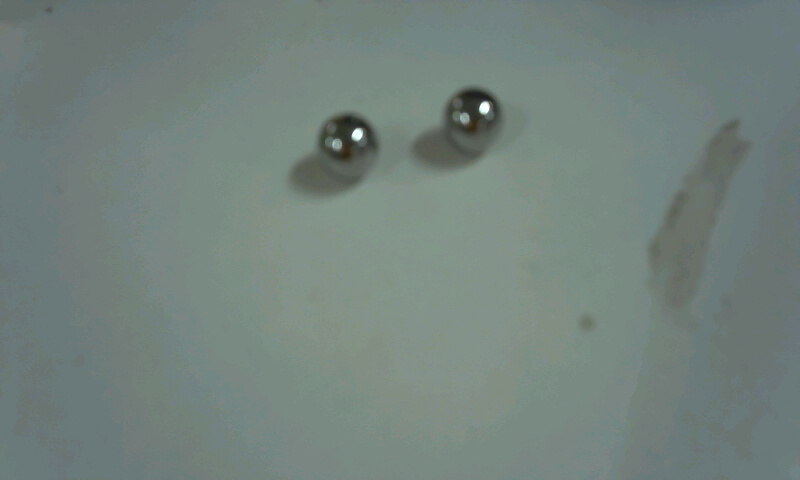steelball: (307, 95, 391, 185), (438, 77, 513, 167)
